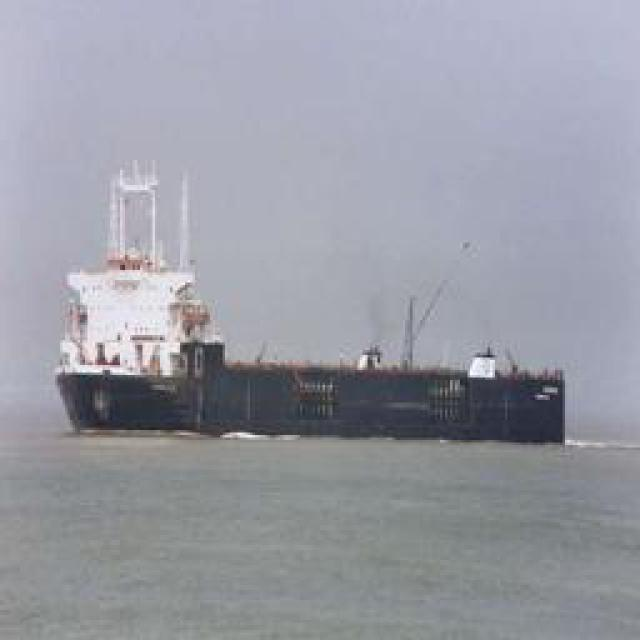Ship: (54, 145, 573, 456)
